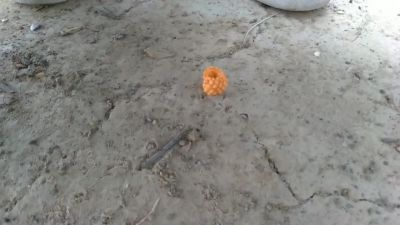eggs: (205, 66, 227, 99)
